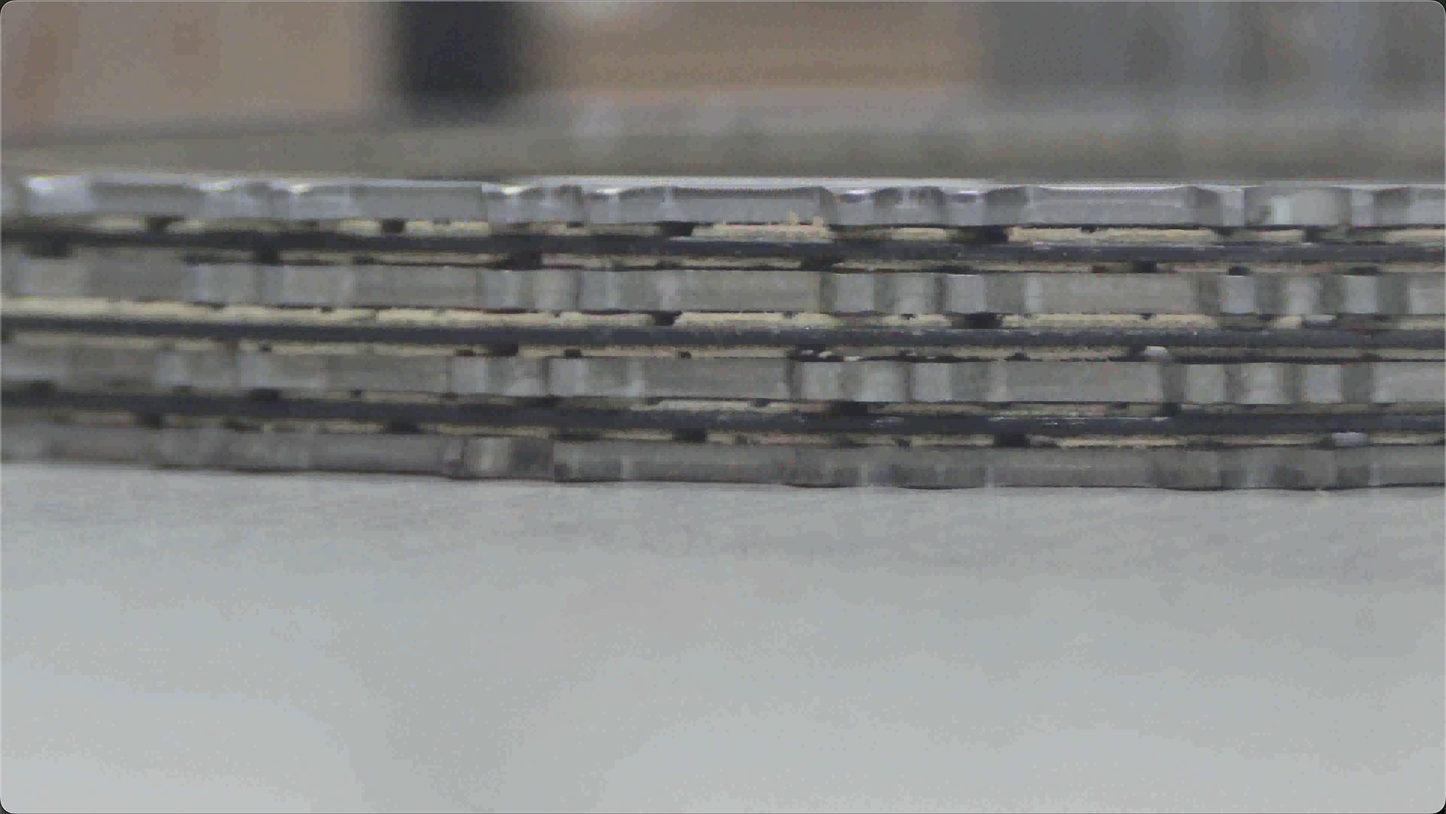Black metal plate: (0, 420, 1445, 490)
shiney metal plate: (117, 190, 1436, 814), (0, 341, 1442, 406), (0, 172, 1441, 230)
spacer: (61, 110, 1388, 710), (0, 157, 1420, 332), (0, 316, 1440, 354)
